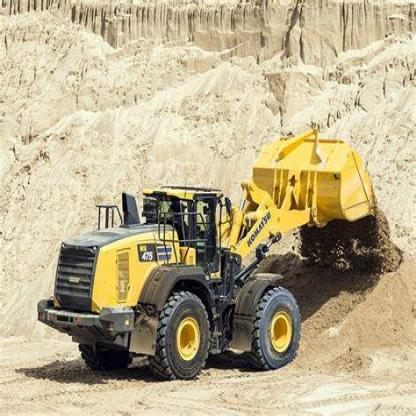bull_dozer/loader/grader: (34, 114, 383, 384)
